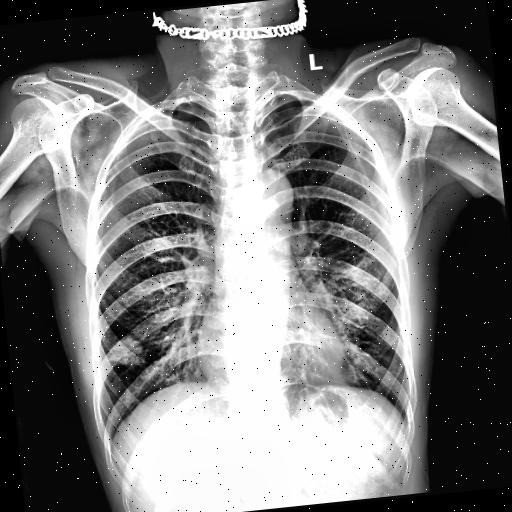4- Consolidation: (106, 335, 146, 367)
7- Lung Opacity: (110, 336, 148, 370), (106, 335, 146, 367)
8- Nodule-Mass: (107, 334, 145, 368), (106, 335, 146, 367)
